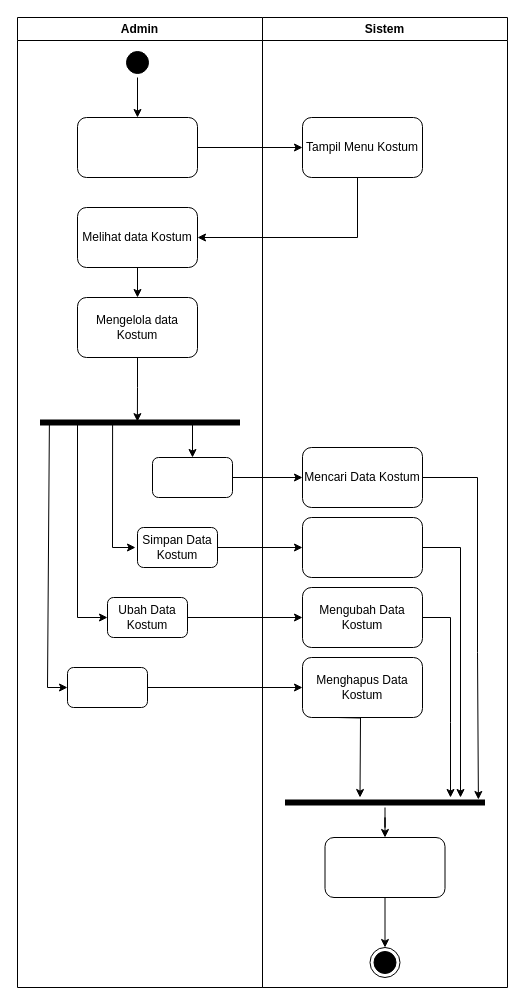
This 525x1005 diagram has some shape labels left out. Here are the shapes that lost their labels. From the top down, the centre of each, then its label:
At pixel 137 147: "Pilih Menu Kostum".
At pixel 192 477: "Cari Data Kostum".
At pixel 362 547: "Menyimpan Data Kostum".
At pixel 107 687: "Hapus Data Kostum".
At pixel 384 867: "Simpan Perubahan".
